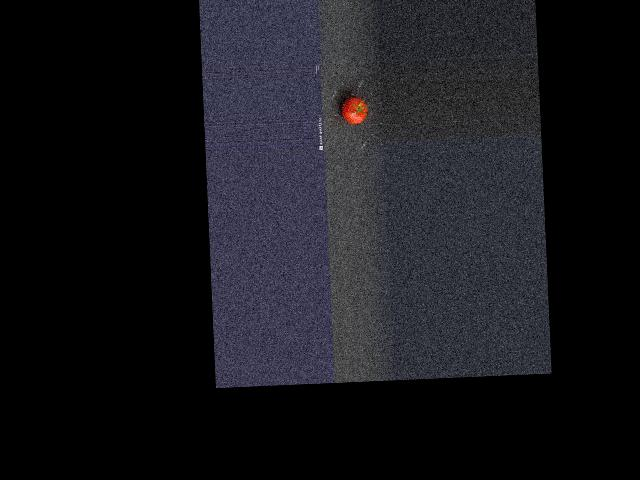tomato: (342, 96, 367, 124)
